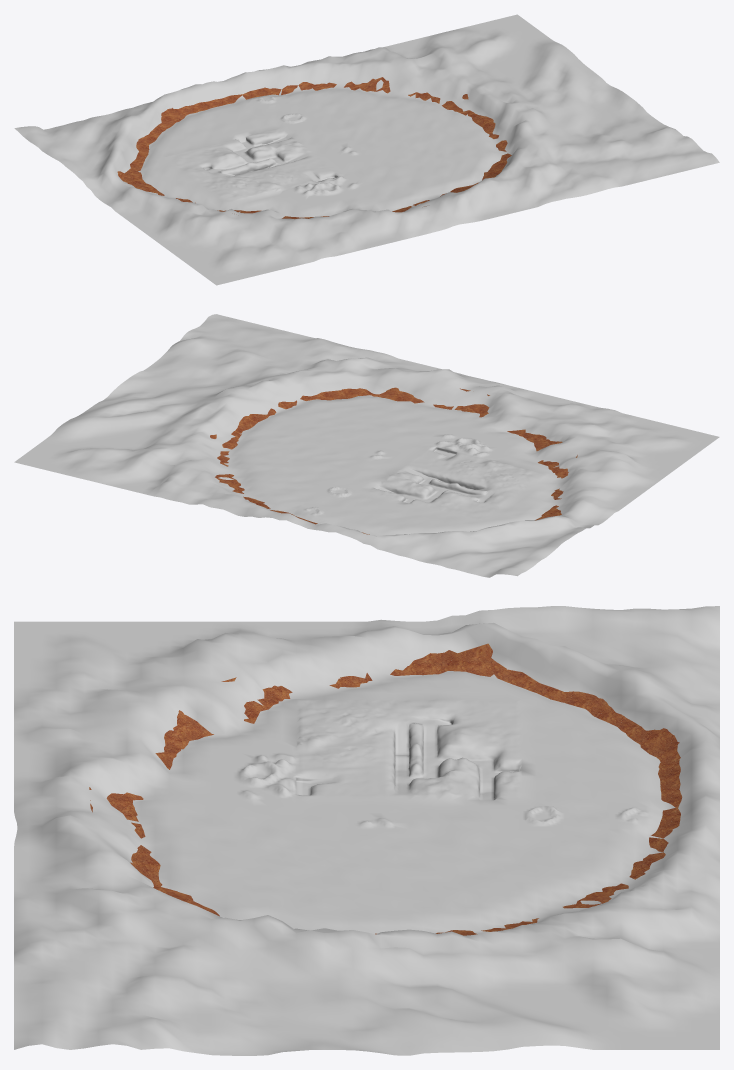
The model's file is mars_terrain.DAE.
The picture shows the model from 3 angles, top to bottom: view 1: azimuth 30°, elevation 25°; view 2: azimuth 150°, elevation 25°; view 3: azimuth 270°, elevation 25°; orthographic projection. The views are drawn at different scales.
Parts seen in each view (by area): view 1: terrain; view 2: terrain; view 3: terrain.
Part boxes in pixels (x1,y1,x2,y2): terrain: [14, 14, 719, 285]; terrain: [14, 314, 719, 577]; terrain: [14, 606, 719, 1055].
Size of the model in its own units: 216 by 150 by 9.95.
